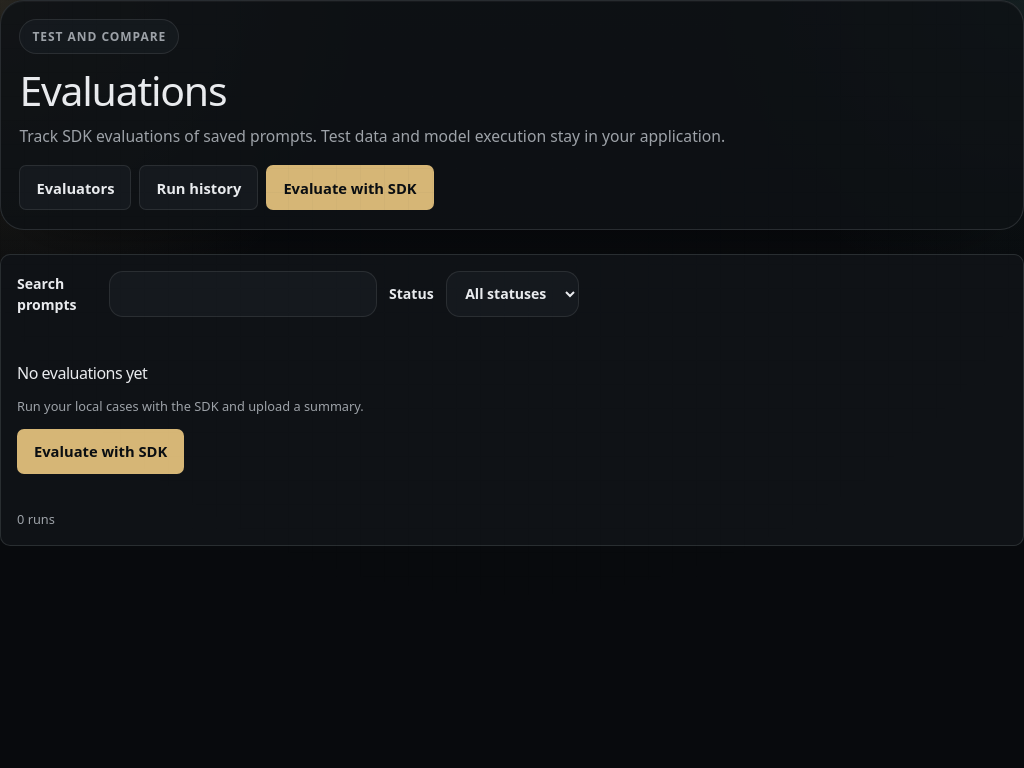
Test: distinguishes filtered empty results and resets search
This screenshot has width=1024, height=768.
Expected: the heading "No evaluations yet" is shown, [17,361,147,385]
Type "missing" into the field labelled "Search prompts" at (243, 294), box [109,271,377,317]
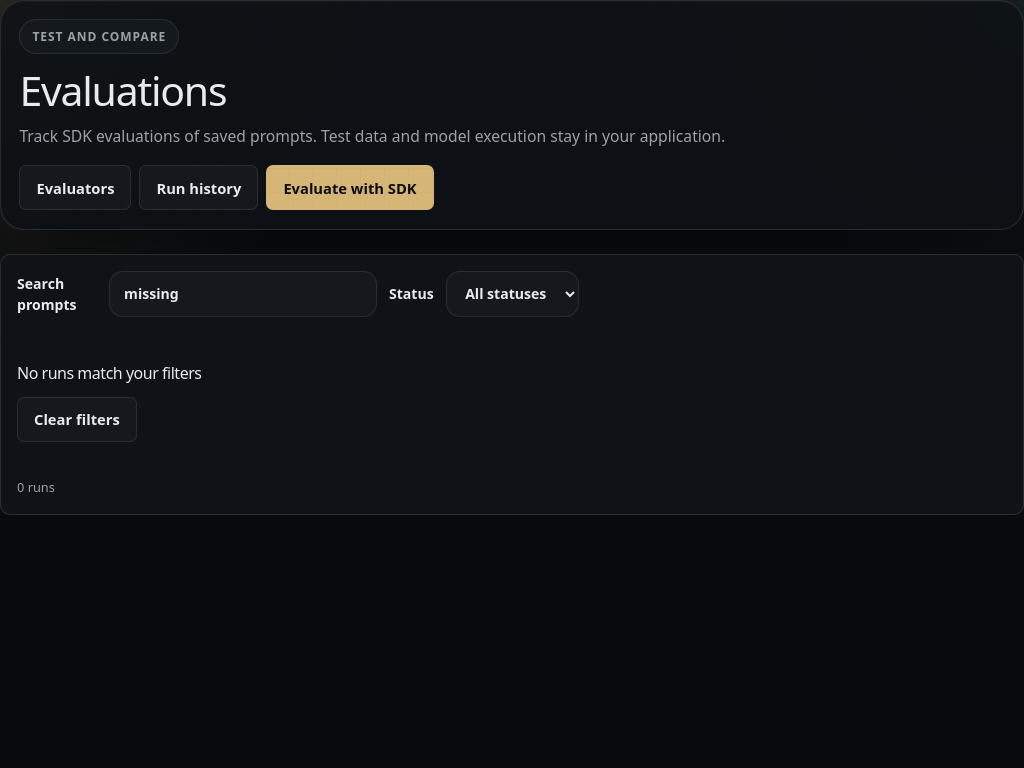
Result: the heading "No runs match your filters" is shown at [17,361,202,385]
Click the button "Clear filters" at (77, 419), box [17,397,137,442]
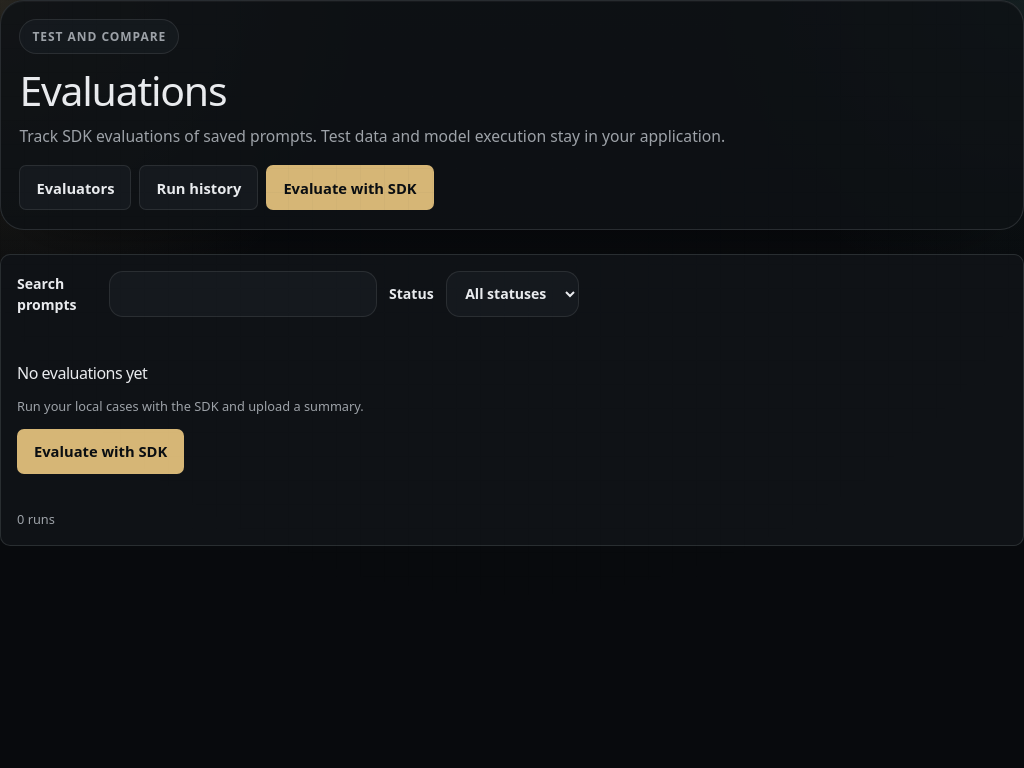
Result: the heading "No evaluations yet" is shown at [17,361,147,385]
